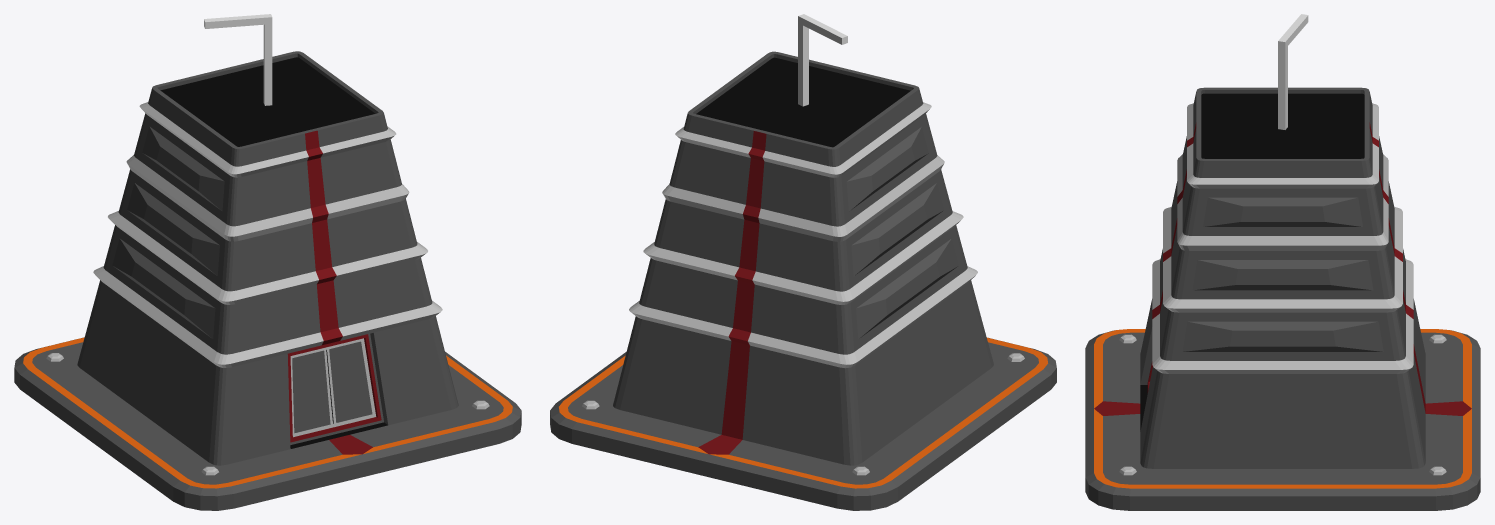
File: barracks_Base_Model.fbx
3 views of the same model, side by side, from view 1: azimuth 30°, elevation 25°; view 2: azimuth 150°, elevation 25°; view 3: azimuth 270°, elevation 25° (orthographic).
Parts seen in each view (by area): view 1: Bunker, Cube.001; view 2: Bunker, Cube.001; view 3: Bunker, Cube.001.
Part boxes in pixels (<box>): Bunker: <box>14,51,521,510</box>; Cube.001: <box>204,14,272,105</box>; Bunker: <box>550,51,1056,510</box>; Cube.001: <box>798,14,847,106</box>; Bunker: <box>1085,87,1480,510</box>; Cube.001: <box>1278,14,1308,129</box>.
Bounding box in the file's own units: 3.96 × 4.28 × 3.96.
